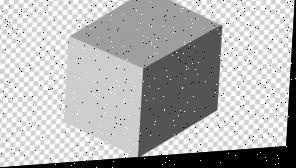cube: (62, 0, 226, 164)
